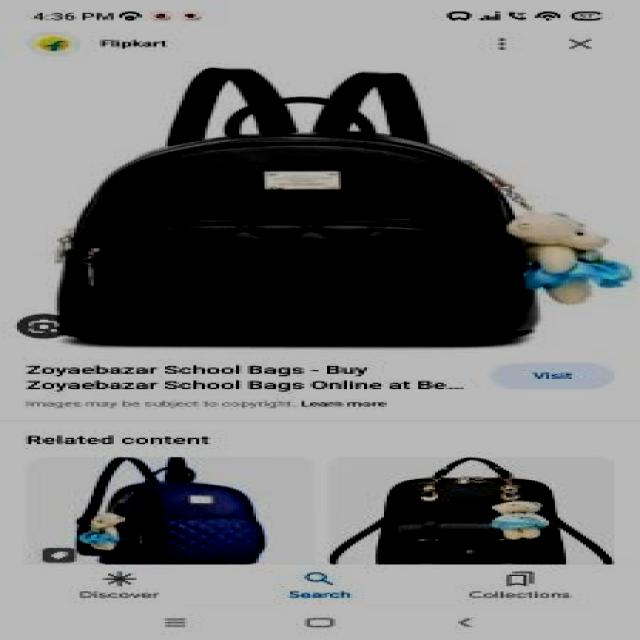backpack: (18, 68, 544, 344), (329, 458, 613, 566), (75, 457, 265, 566)
